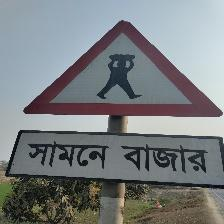Market-in-front: (11, 19, 224, 182)
